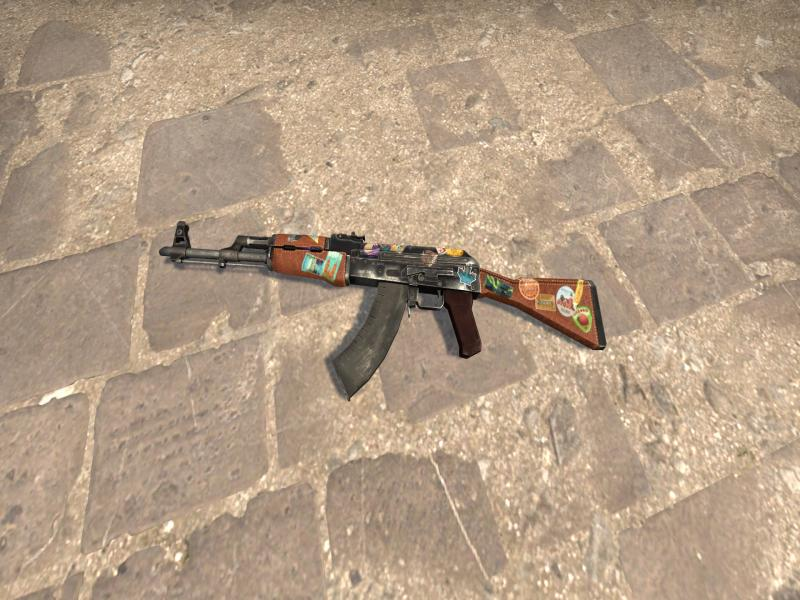AK47: (162, 221, 501, 398), (540, 284, 603, 347)
